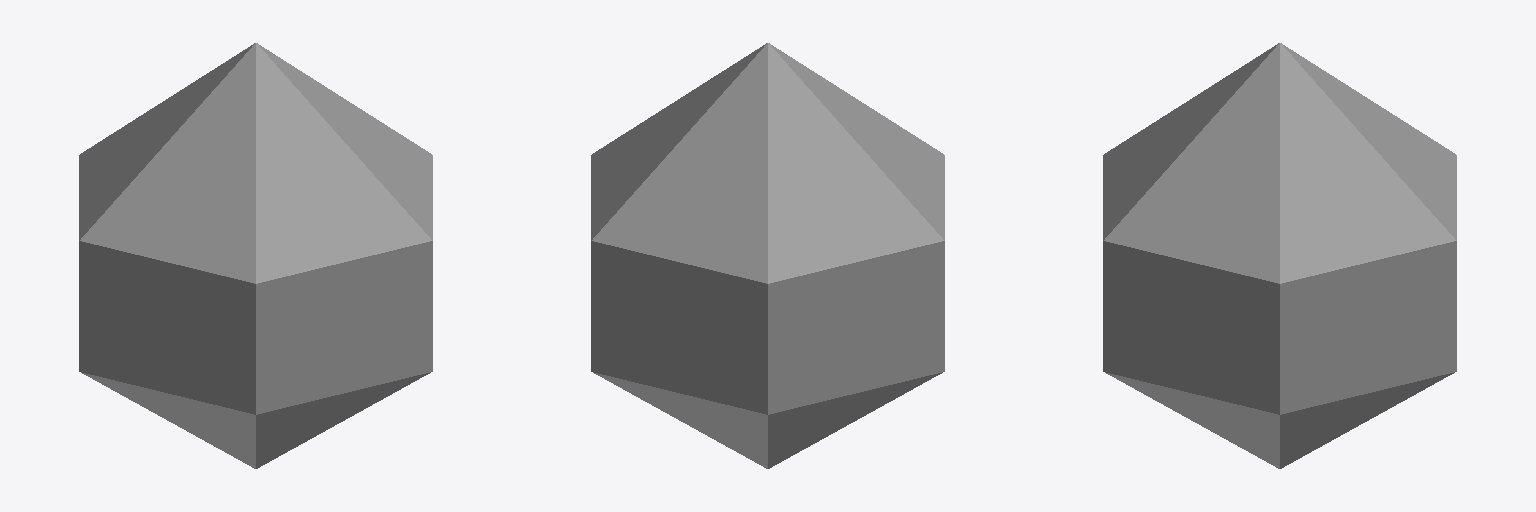
Rendered from key.obj.
3 renders of one model, left to right at view 1: azimuth 30°, elevation 25°; view 2: azimuth 150°, elevation 25°; view 3: azimuth 270°, elevation 25°, orthographic.
Parts seen in each view (by area): view 1: Sphere; view 2: Sphere; view 3: Sphere.
Boxes of the visible parts, box(x1,y1,x2,y2) form: Sphere: box(79, 43, 432, 468); Sphere: box(591, 43, 944, 468); Sphere: box(1103, 43, 1456, 468).
Bounding box in the file's own units: 0.1039 × 0.12 × 0.09.